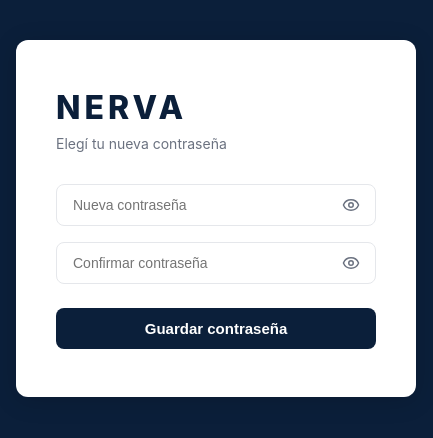
ResetPassword › muestra un mensaje específico si la nueva contraseña es igual a la anterior
Type "nuevaClave123" into the password field with placeholder "Nueva contraseña" at [216, 204], box [56,184,376,226]
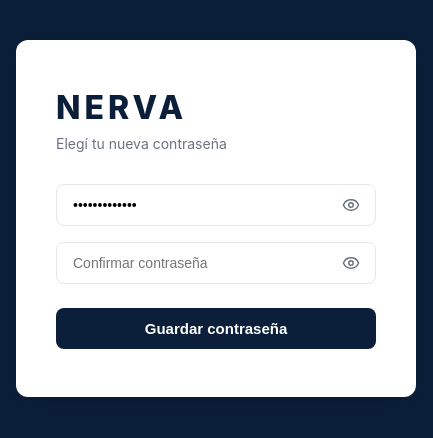
Type "nuevaClave123" into the password field with placeholder "Confirmar contraseña" at [216, 262], box [56,242,376,284]
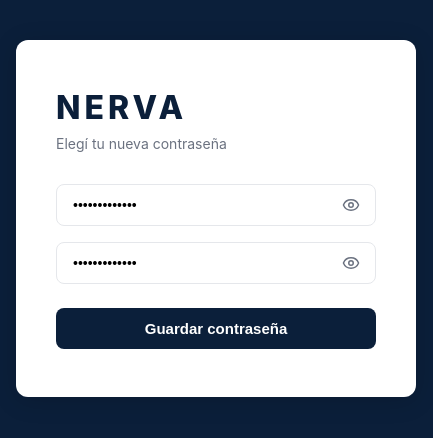
Click the button "Guardar contraseña" at [216, 328], box [56,308,376,348]
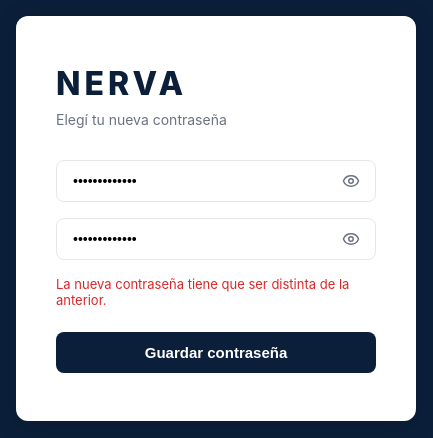
Expected: the text "La nueva contraseña tiene que ser distinta de la anterior." is shown, [56,276,376,308]
